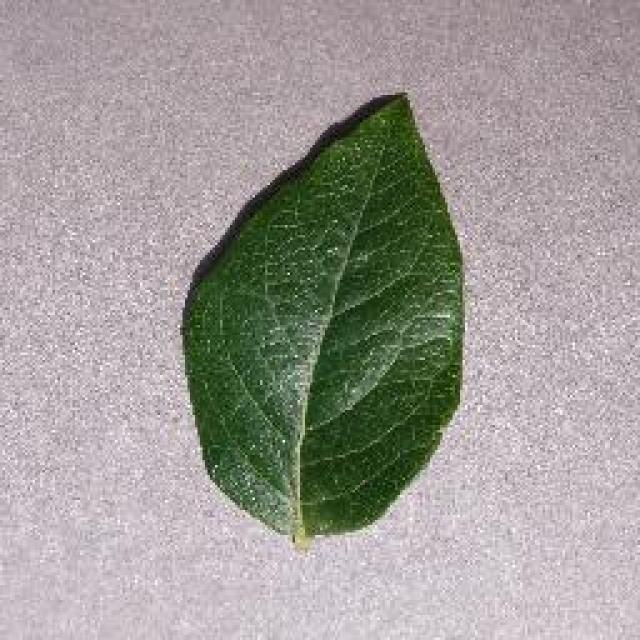Blu_healthy: (208, 158, 477, 462)
